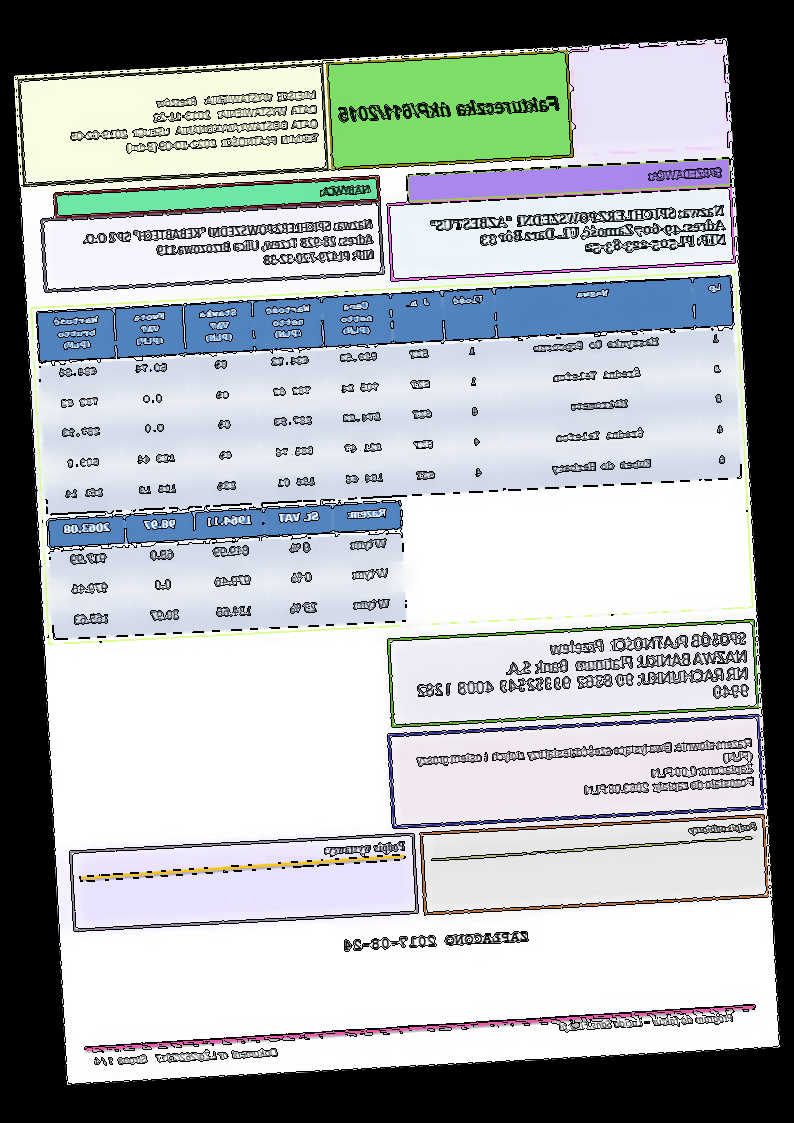Table: (34, 273, 744, 517), (44, 498, 411, 641)
TextBox: (408, 626, 753, 719), (410, 733, 758, 808), (428, 199, 730, 267), (77, 213, 378, 281), (62, 84, 322, 161), (335, 89, 563, 129), (89, 1041, 284, 1074), (340, 926, 532, 956), (554, 1007, 739, 1037), (321, 835, 410, 863), (647, 161, 728, 186), (686, 816, 764, 841), (318, 179, 374, 201)
